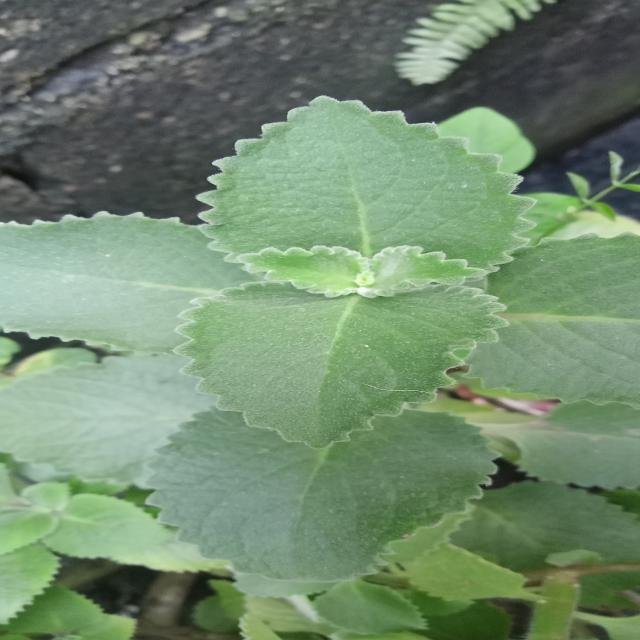Oregano: (189, 82, 558, 460)
